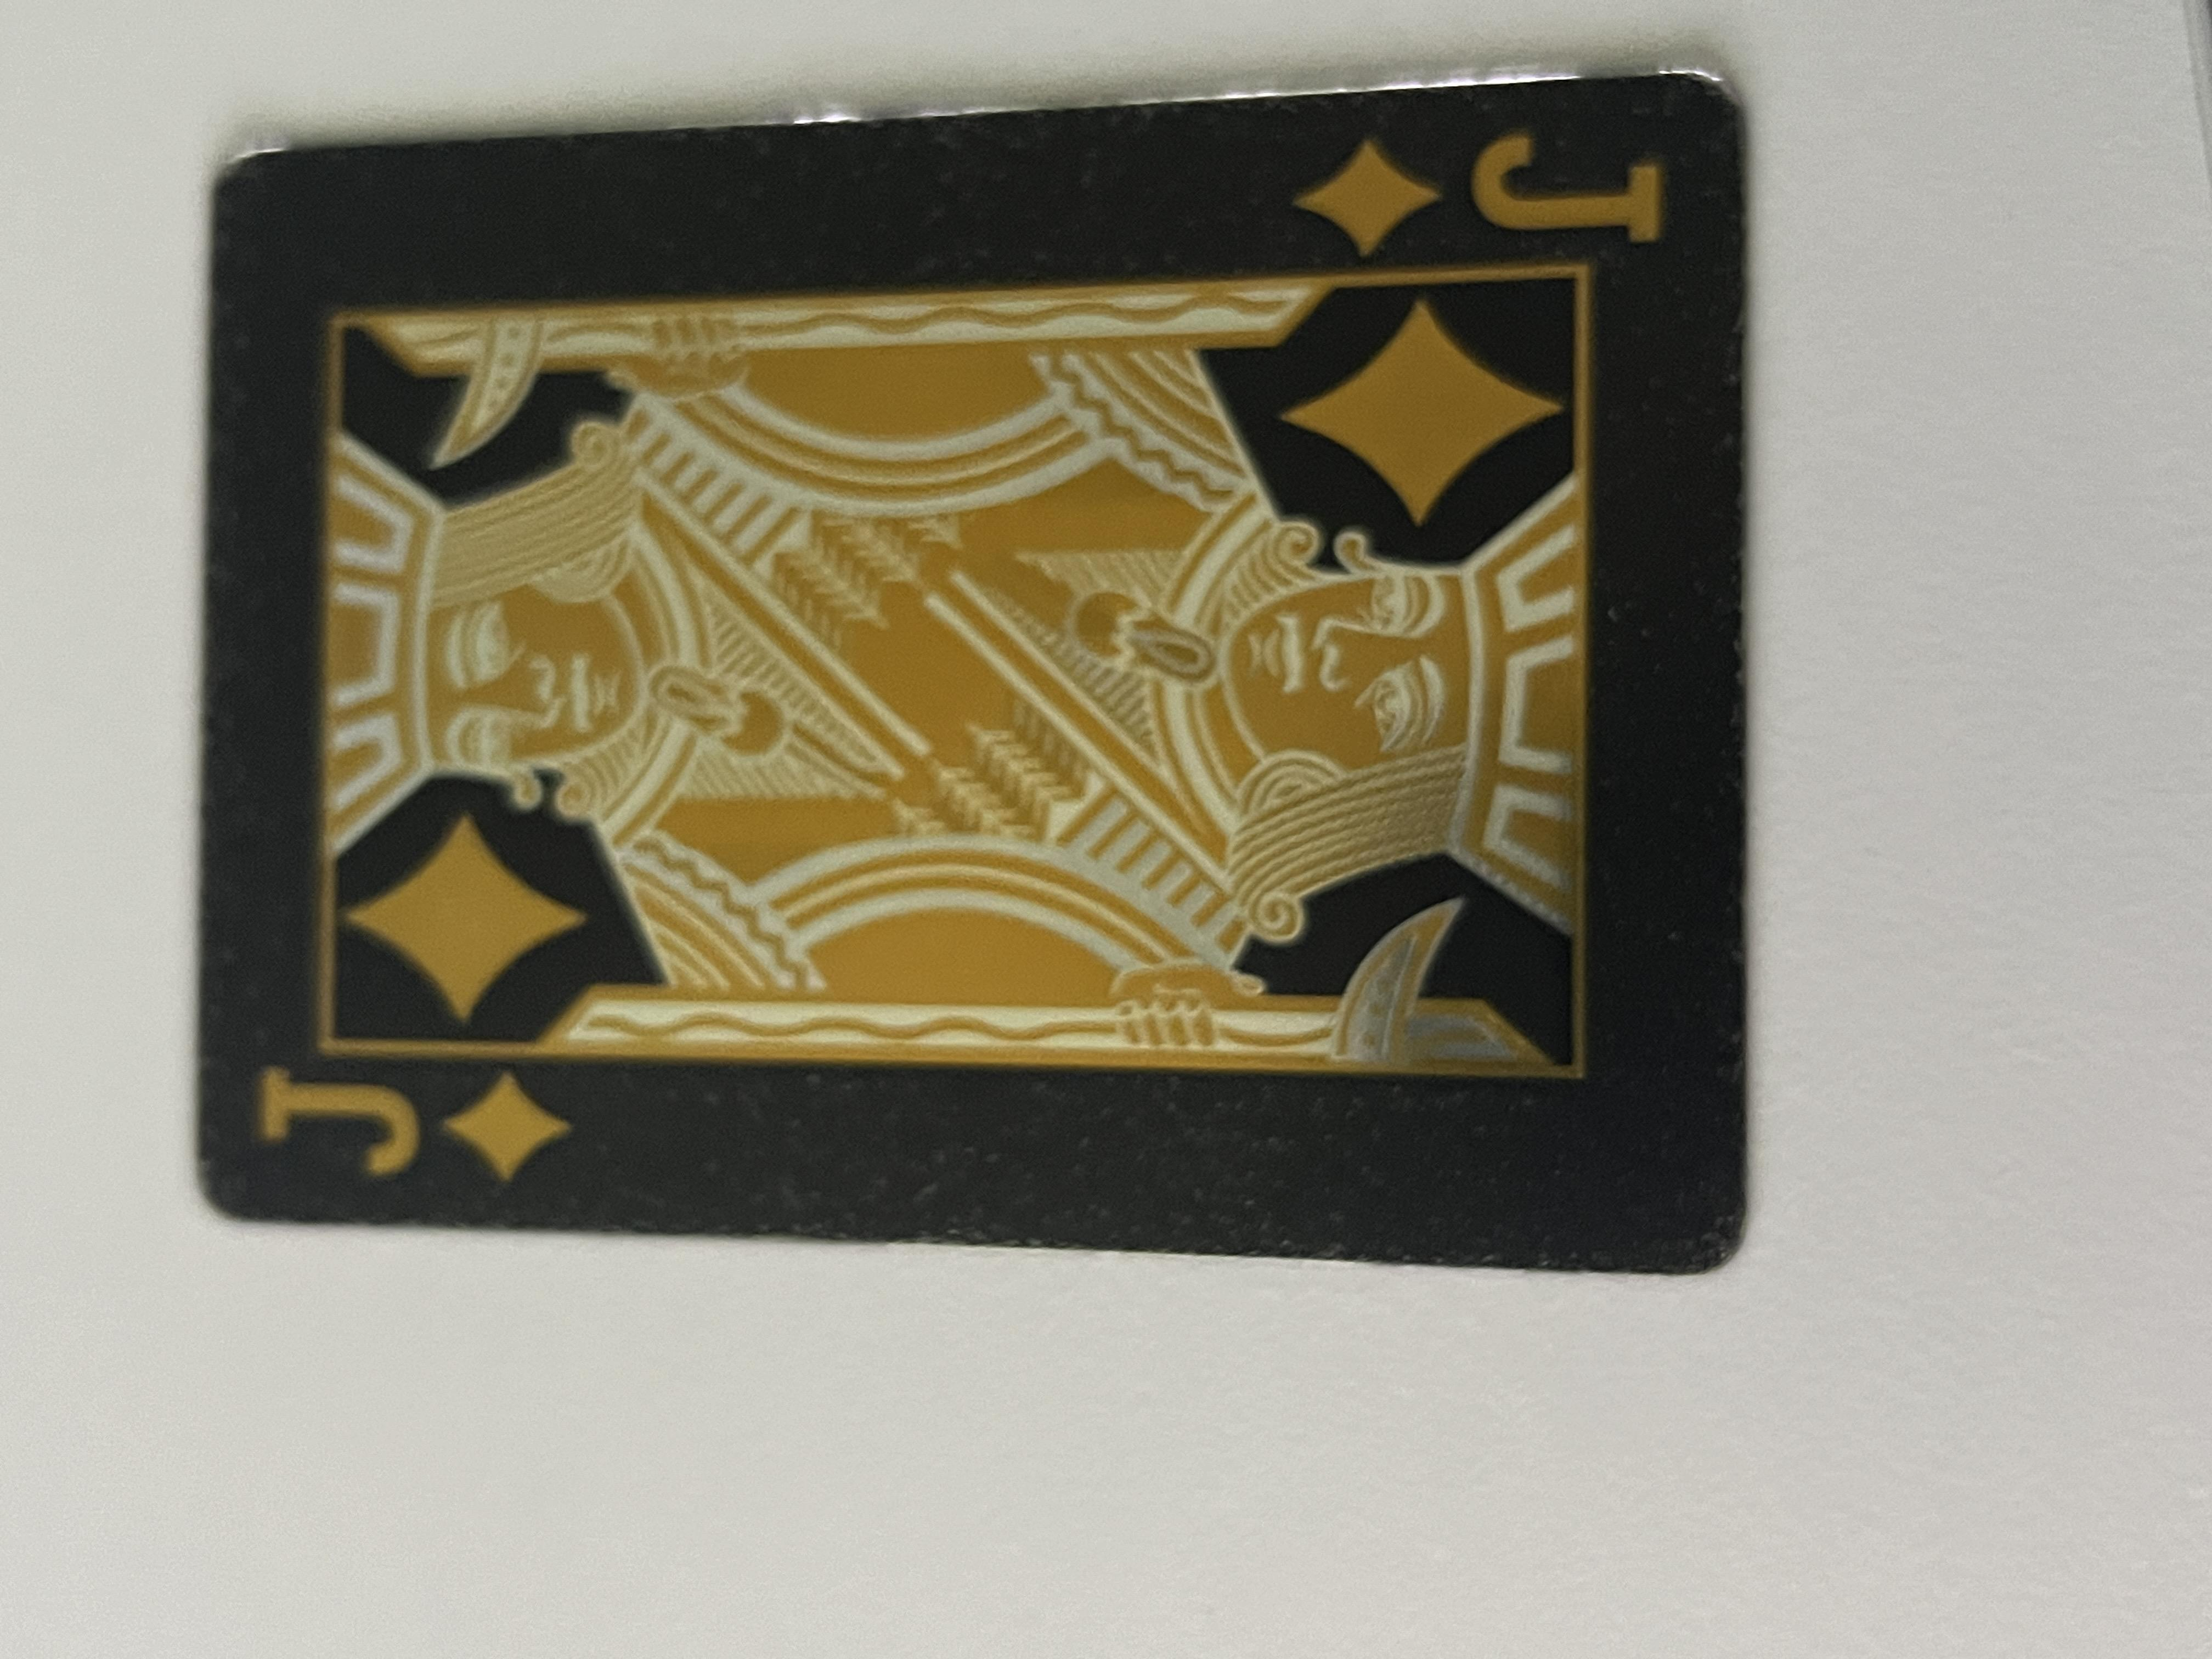JD: (1825, 972, 2066, 1249), (611, 167, 838, 453)
